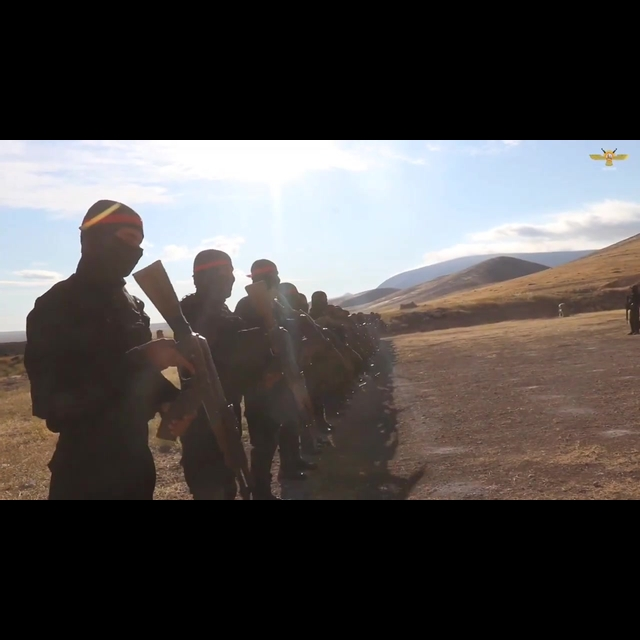AK47: (136, 264, 253, 501)
